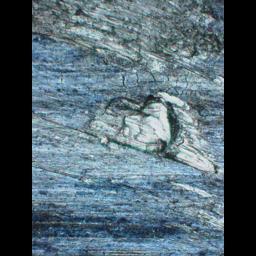d: (80, 84, 221, 177)
